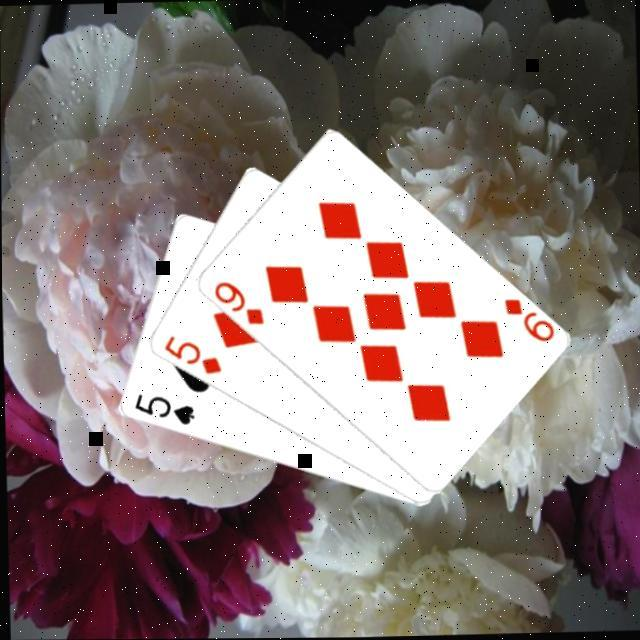5D: (160, 333, 225, 380)
5S: (130, 391, 197, 430)
9D: (500, 296, 557, 349), (211, 279, 267, 330)
